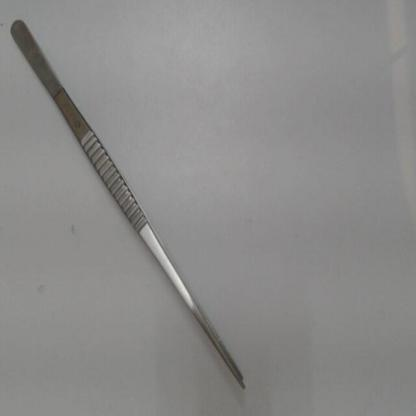DeBakey Dissector: (8, 4, 253, 402)
